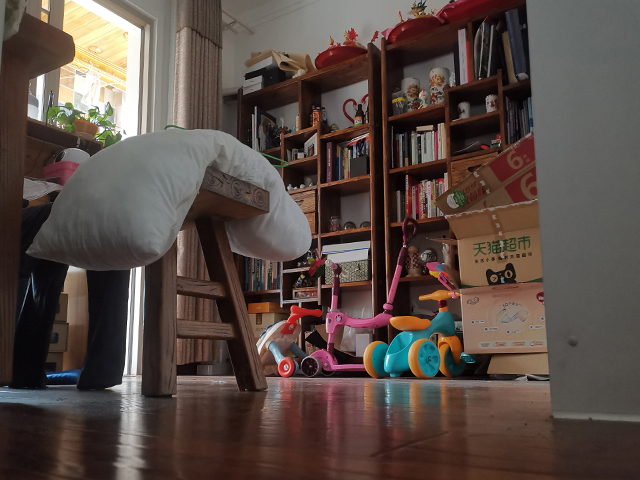curtain: (167, 1, 223, 368)
stool: (141, 167, 271, 398)
